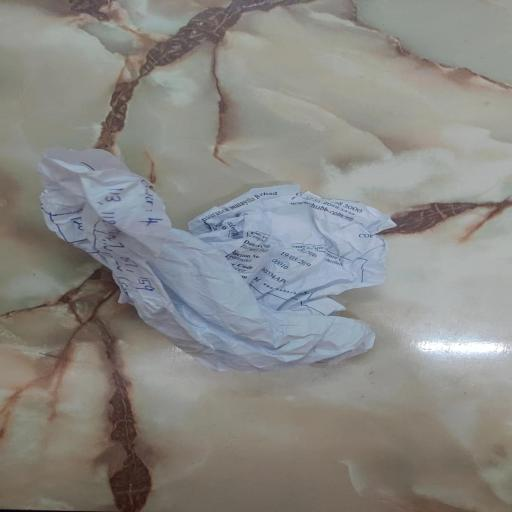paper: (32, 141, 389, 368)
